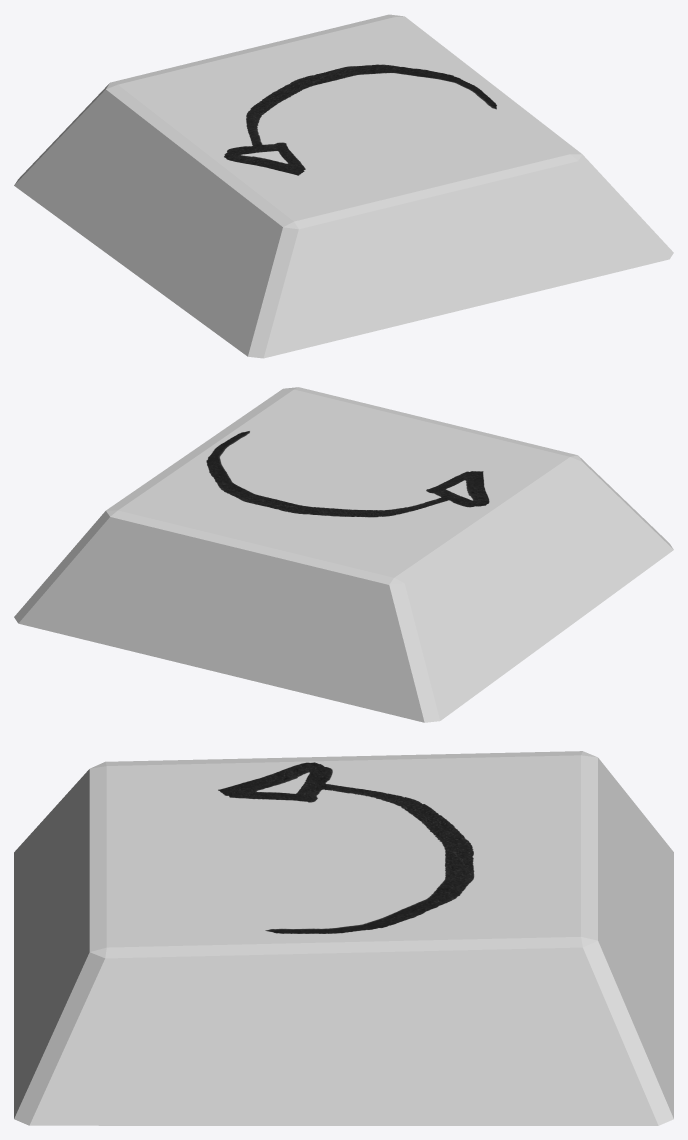
The model's file is key_left.glb.
3 views of the same model, one above another, from view 1: azimuth 30°, elevation 25°; view 2: azimuth 150°, elevation 25°; view 3: azimuth 270°, elevation 25° (orthographic). The views are drawn at different scales.
Visible parts, largest first — view 1: Cube.004, KeyLabel; view 2: Cube.004, KeyLabel; view 3: Cube.004, KeyLabel.
Part boxes in pixels (bbox=[...]): Cube.004: bbox=[14, 14, 673, 358]; KeyLabel: bbox=[224, 64, 496, 175]; Cube.004: bbox=[14, 387, 673, 722]; KeyLabel: bbox=[206, 431, 489, 517]; Cube.004: bbox=[14, 751, 673, 1125]; KeyLabel: bbox=[218, 762, 474, 933].
Bounding box in the file's own units: 3.9 × 0.9506 × 3.88.
Materials: 1 (1 with a texture image).
